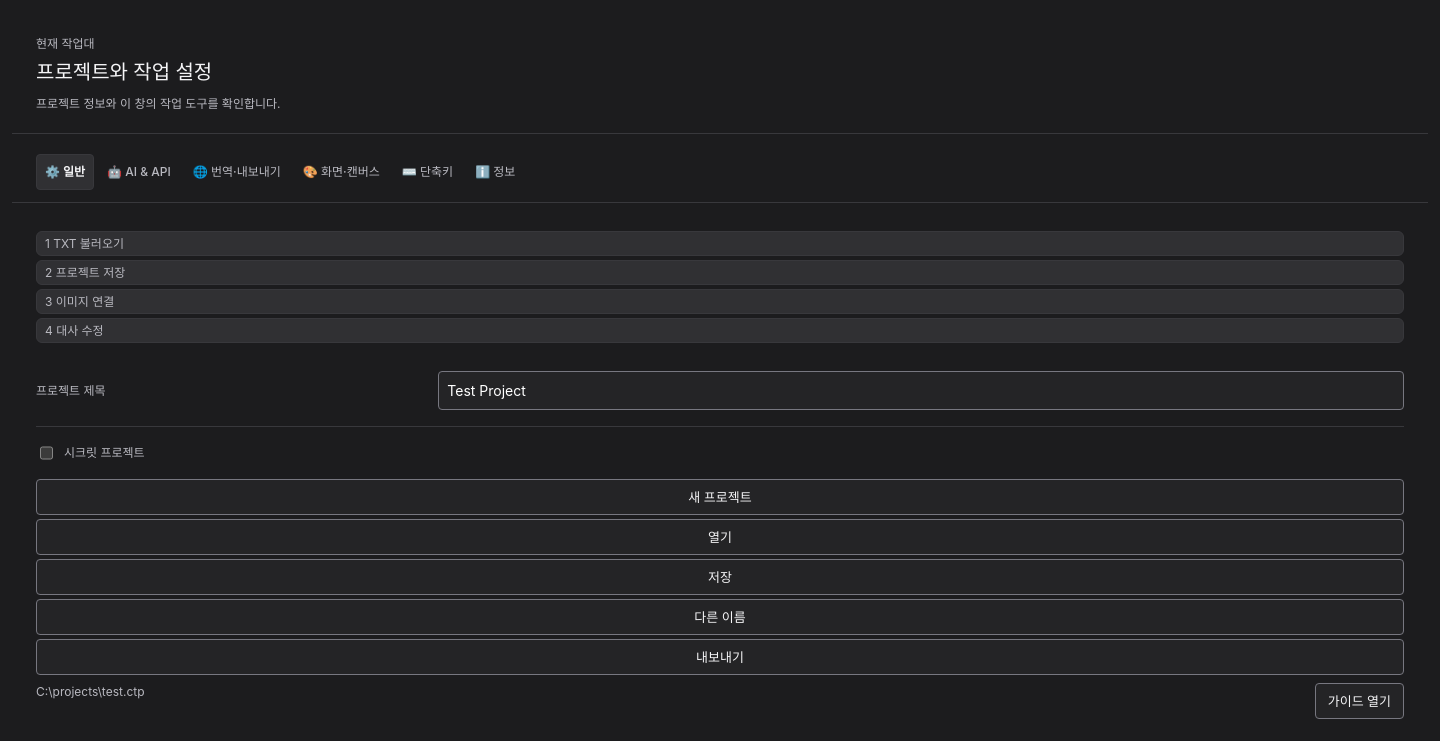
Scenario: ProjectActionsPanel - AI Settings Tab › preserves the local draft across tabs and exposes the full selected model without testing the connection
This screenshot has width=1440, height=741.
Click the button "🤖 AI & API".
click(139, 172)  # box [98, 154, 180, 190]
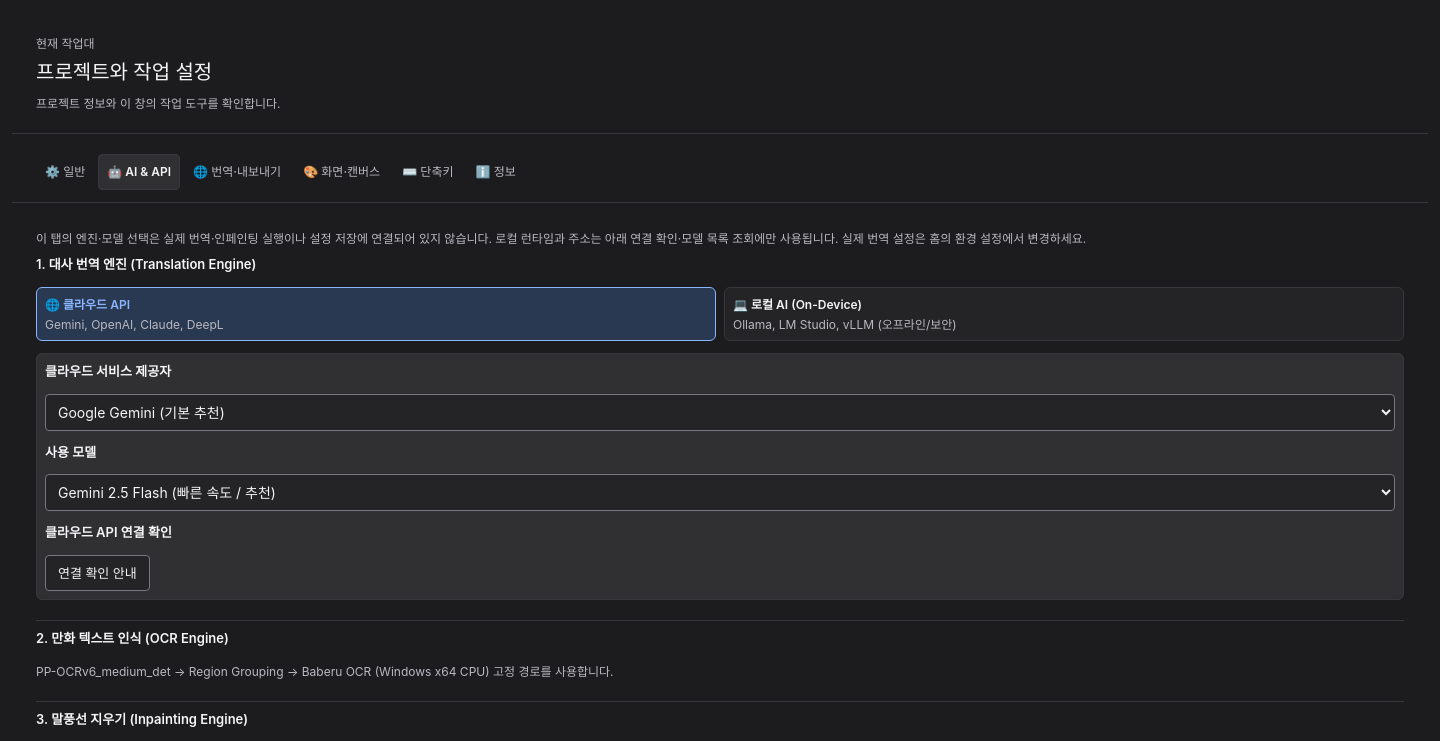
Click the button "💻 로컬 AI (On-Device) Ollama, LM Studio, vLLM (오프라인/보안)".
click(797, 304)  # box [724, 287, 1404, 341]
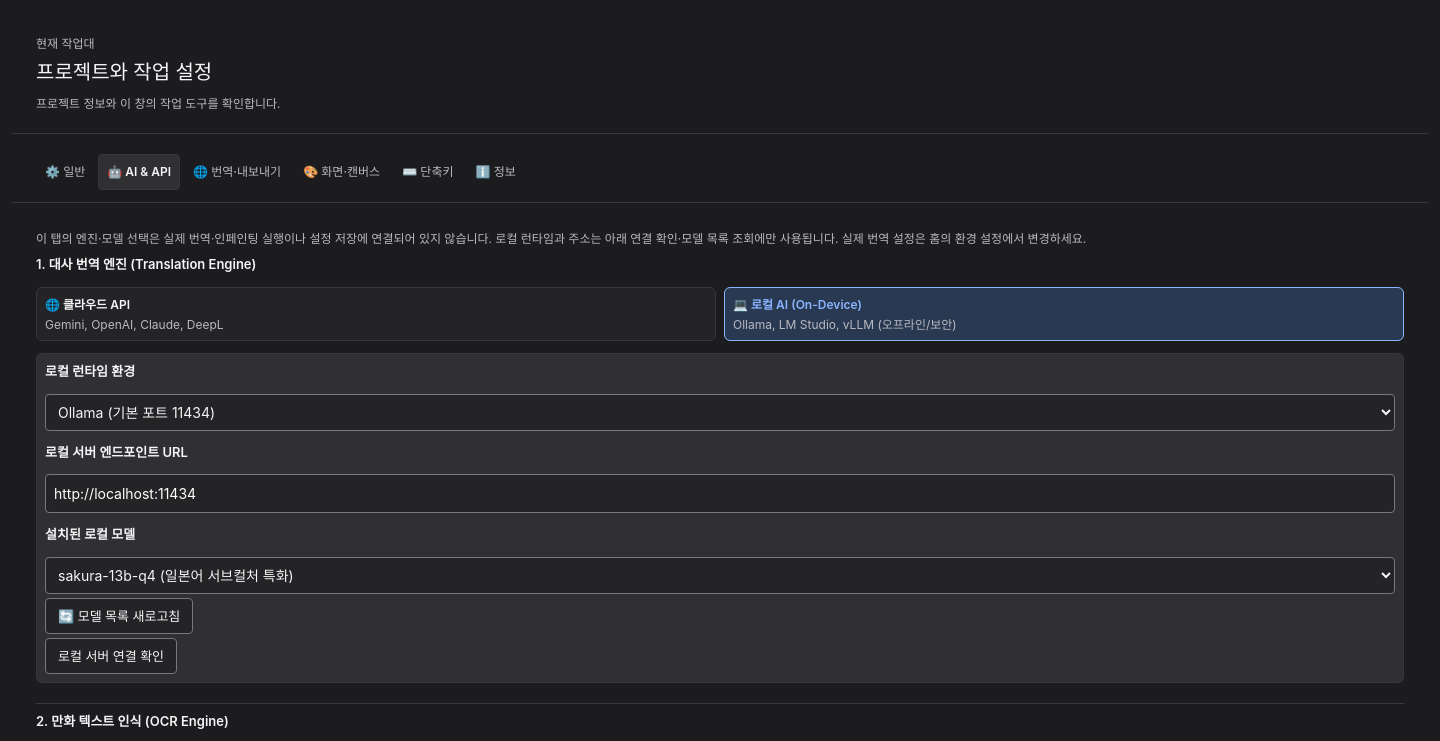
Type "http://localhost:11434/sim-draft" into the field labelled "로컬 서버 엔드포인트 URL".
click(720, 494); type("http://localhost:11434/sim-draft")  # box [45, 474, 1395, 513]
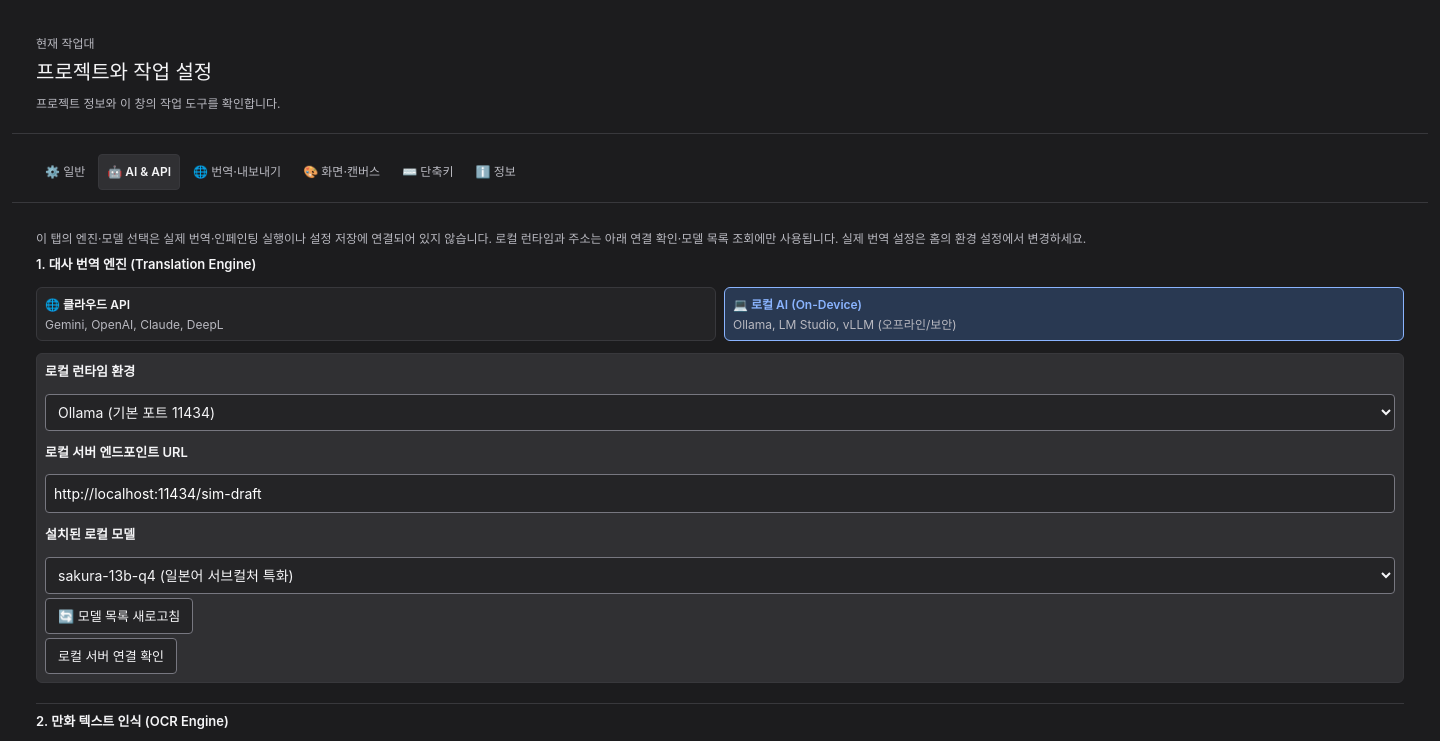
Click the button "🔄 모델 목록 새로고침".
click(119, 616)  # box [45, 598, 193, 634]
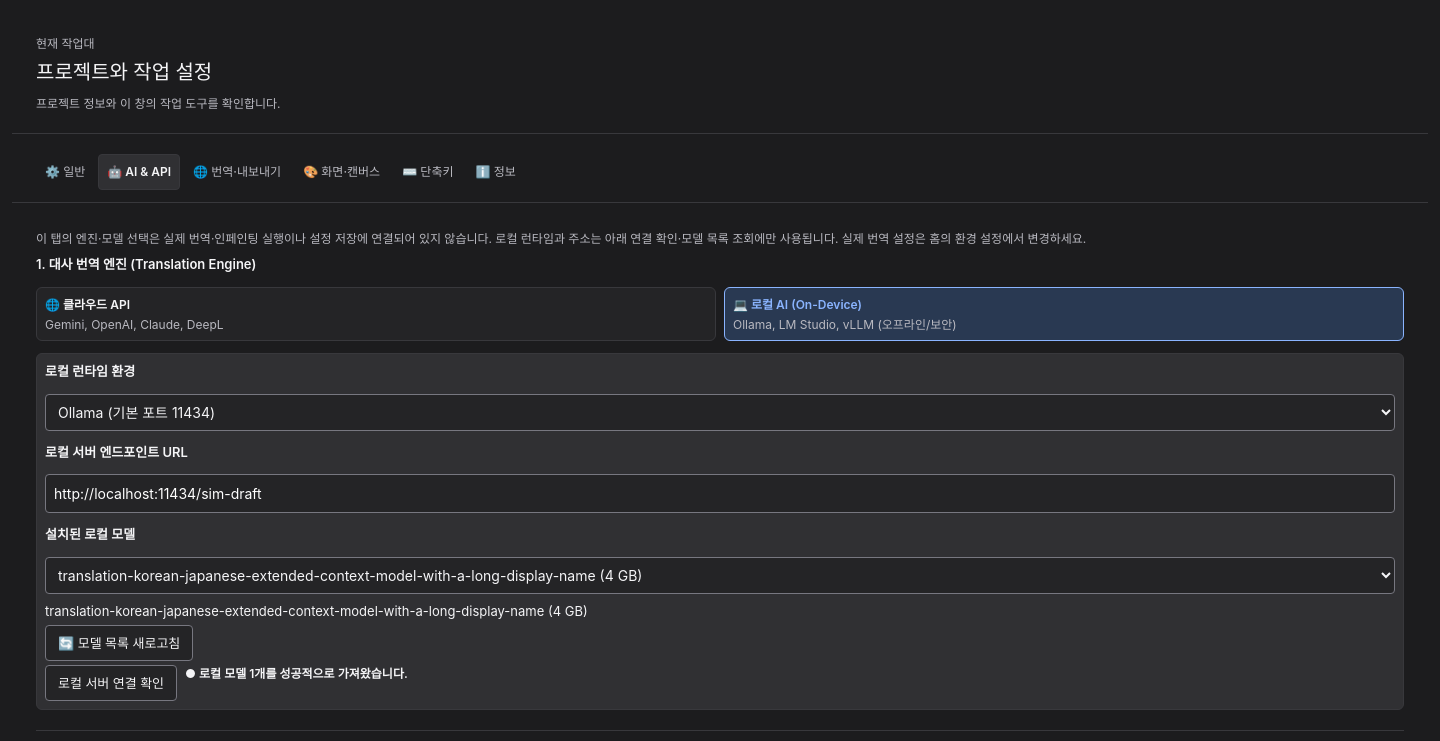
Expected: the dropdown labelled "설치된 로컬 모델" shows "translation-korean-japanese-extended-context-model-with-a-long-display-name (4 G", [45, 557, 1395, 594]
Click the button "⚙️ 일반".
click(65, 172)  # box [36, 154, 94, 190]
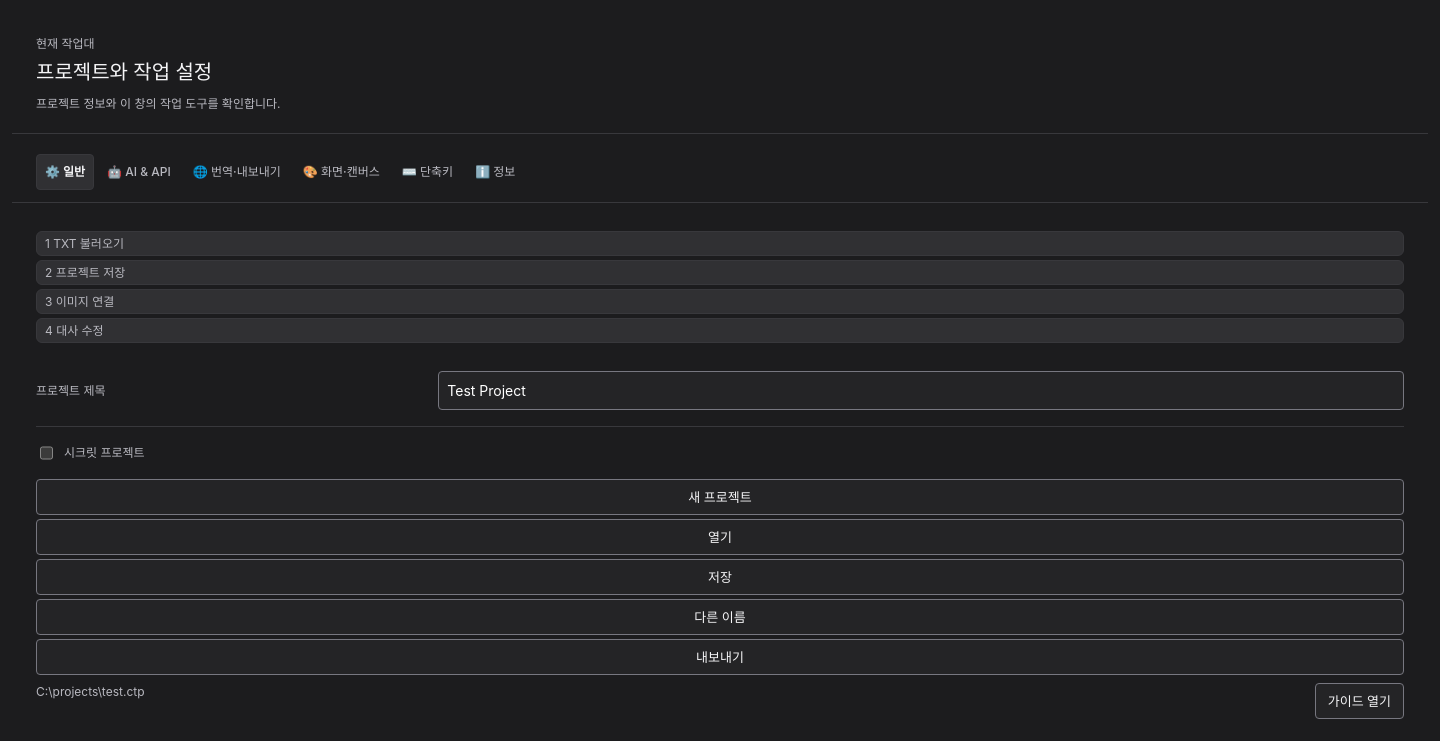
Click the button "🤖 AI & API".
click(139, 172)  # box [98, 154, 180, 190]
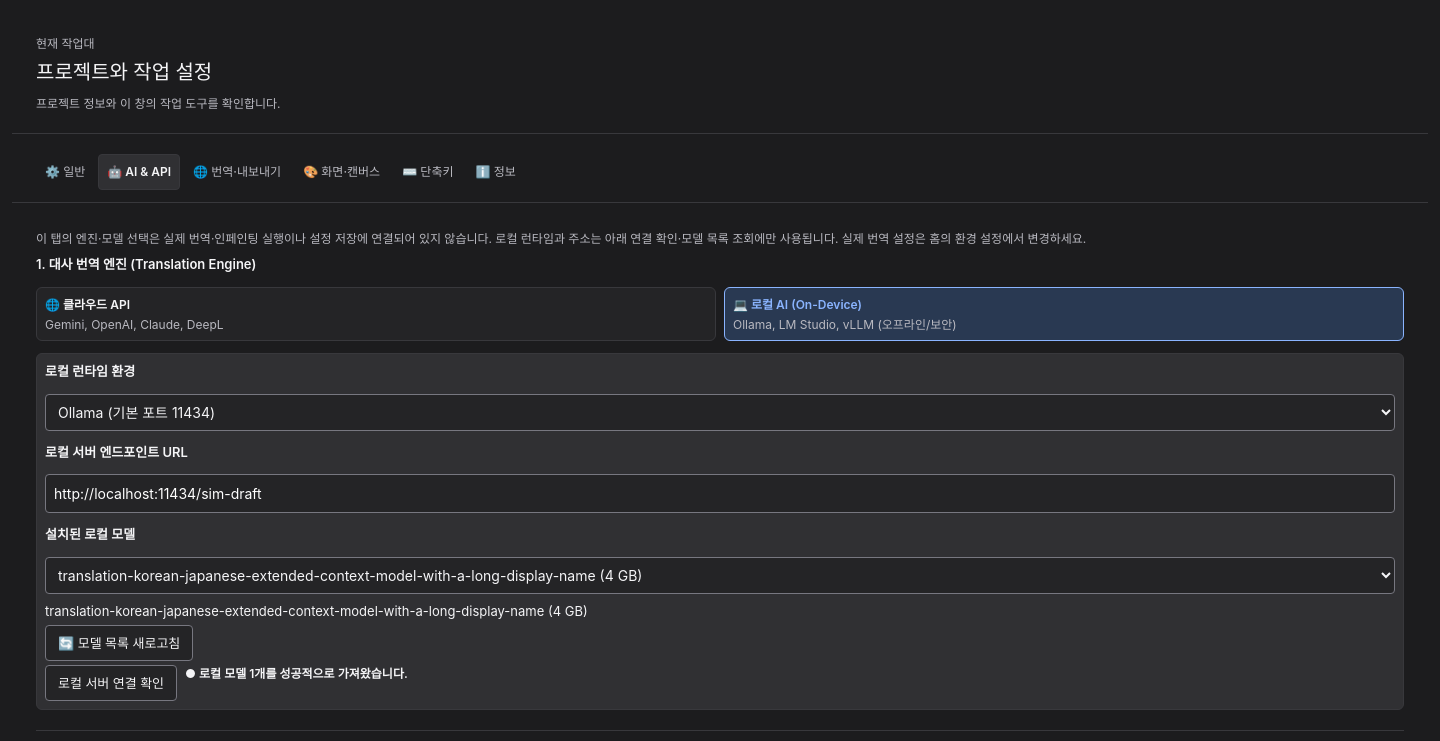
Expected: the dropdown labelled "설치된 로컬 모델" shows "translation-korean-japanese-extended-context-model-with-a-long-display-name (4 G", [45, 557, 1395, 594]
